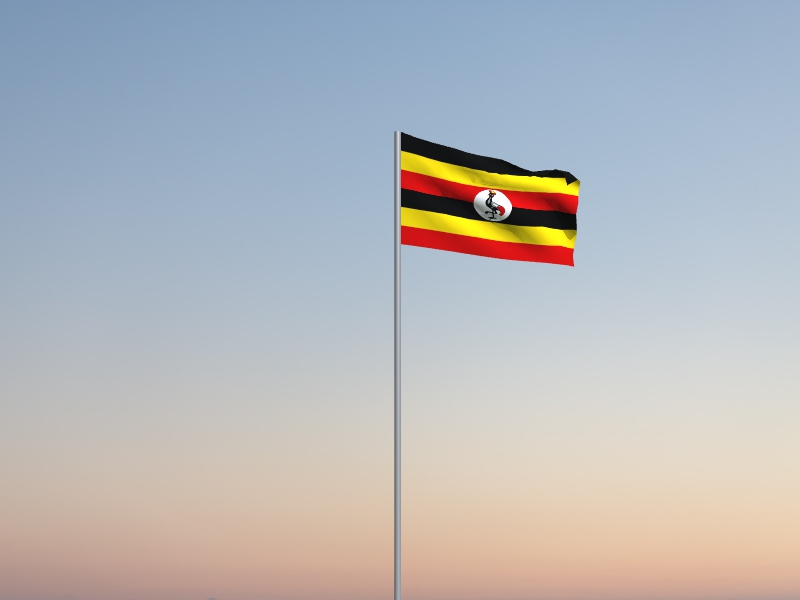ug: (401, 132, 582, 268)
